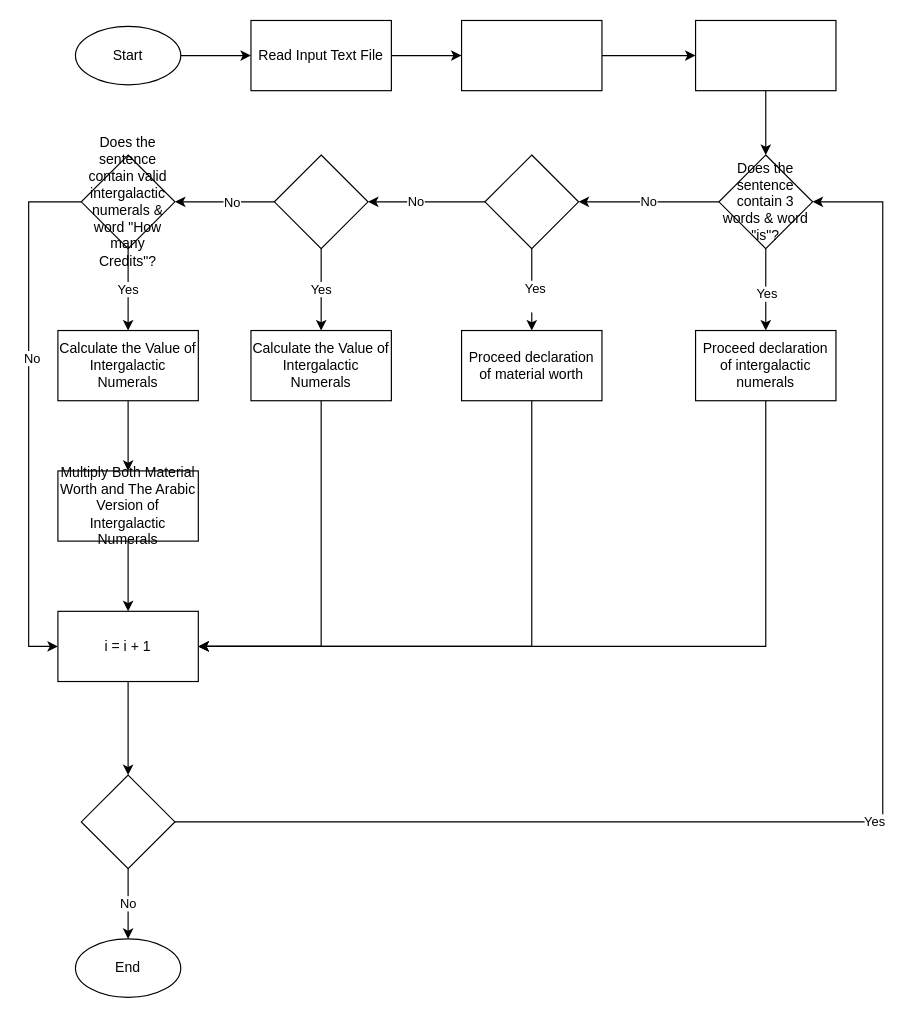
Image size: 913x1018. Some labels were removed from this diagram. Here are the shapes that lost their labels. From the top down, the box of each, then its label:
(460, 19, 602, 91): Split content into sentence line by line
(694, 19, 836, 91): i = 0 len = length of split sentence
(273, 154, 368, 249): Does the sentence contain valid intergalactic numerals & word "How much is"?
(484, 154, 579, 249): Does the sentence contain valid intergalactic numerals & word "credits"?
(80, 774, 175, 869): i < len?
